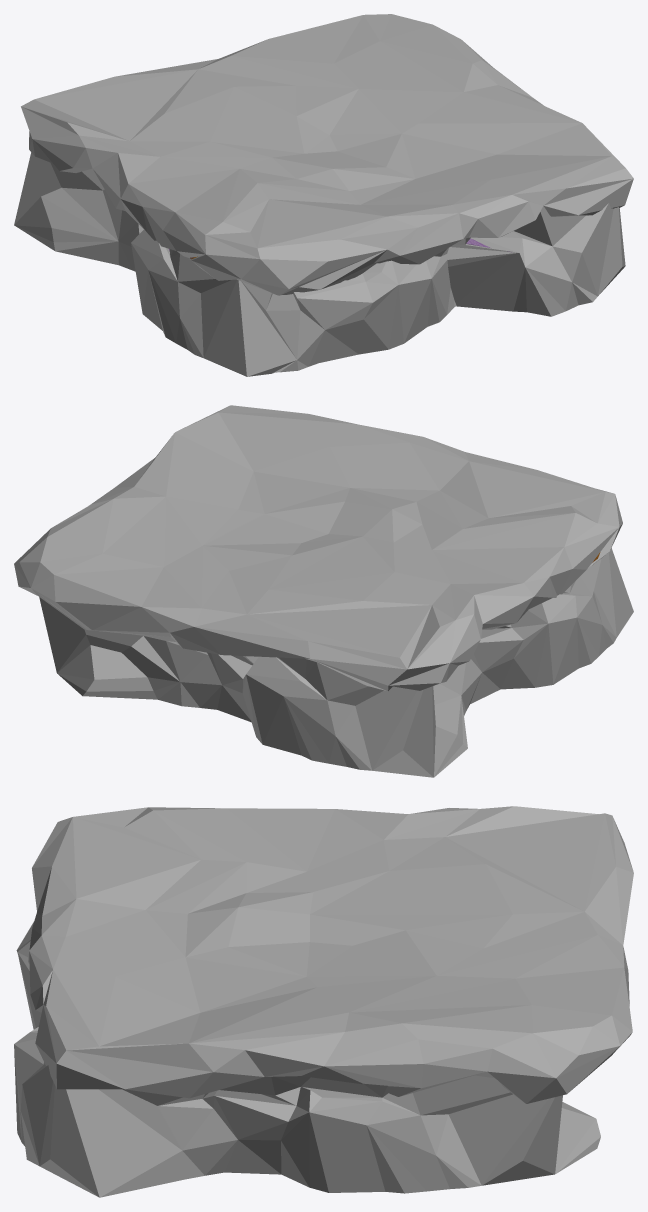
File: Floating_Island_03_Art.fbx
The picture shows the model from 3 angles, top to bottom: view 1: azimuth 30°, elevation 25°; view 2: azimuth 150°, elevation 25°; view 3: azimuth 270°, elevation 25°; orthographic projection. The views are drawn at different scales.
Visible parts, largest first — view 1: Floating_Island_3_Outline; view 2: Floating_Island_3_Outline; view 3: Floating_Island_3_Outline.
Boxes of the visible parts, bbox=[...] form: Floating_Island_3_Outline: bbox=[14, 14, 633, 376]; Floating_Island_3_Outline: bbox=[14, 405, 633, 777]; Floating_Island_3_Outline: bbox=[14, 806, 633, 1197].
Size of what is drawn, in the model's own units: 1566 by 439 by 1586.
